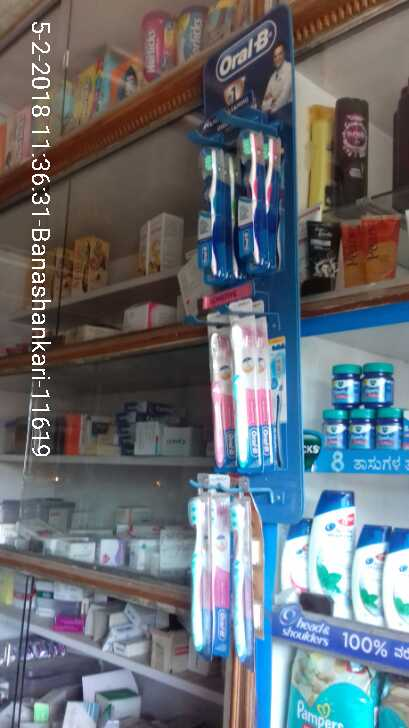beauty: (312, 489, 357, 616), (350, 524, 392, 630)
pharmacy: (283, 648, 374, 728), (229, 303, 264, 468), (225, 496, 255, 665), (206, 314, 238, 467), (186, 491, 214, 657), (198, 146, 226, 282), (236, 127, 263, 266), (360, 362, 399, 408), (345, 405, 379, 453), (376, 406, 408, 451), (331, 364, 363, 408), (319, 407, 348, 449)
